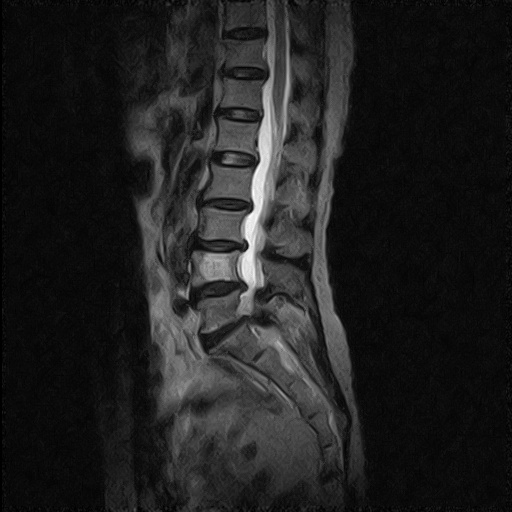L1,v2: (210, 122, 259, 149)
L1-L2,v1: (208, 144, 257, 171)
L2,v2: (204, 167, 253, 194)
L2-L3,v2: (201, 190, 250, 217)
L3,v2: (199, 207, 248, 234)
L3-L4,v3: (194, 228, 243, 255)
L4,v2: (191, 254, 240, 281)
L4-L5,: (192, 276, 241, 303)
L5,v2: (194, 300, 243, 327)
L5-S1,v4: (201, 317, 250, 344)
T12-L1,v1: (216, 101, 265, 128)
